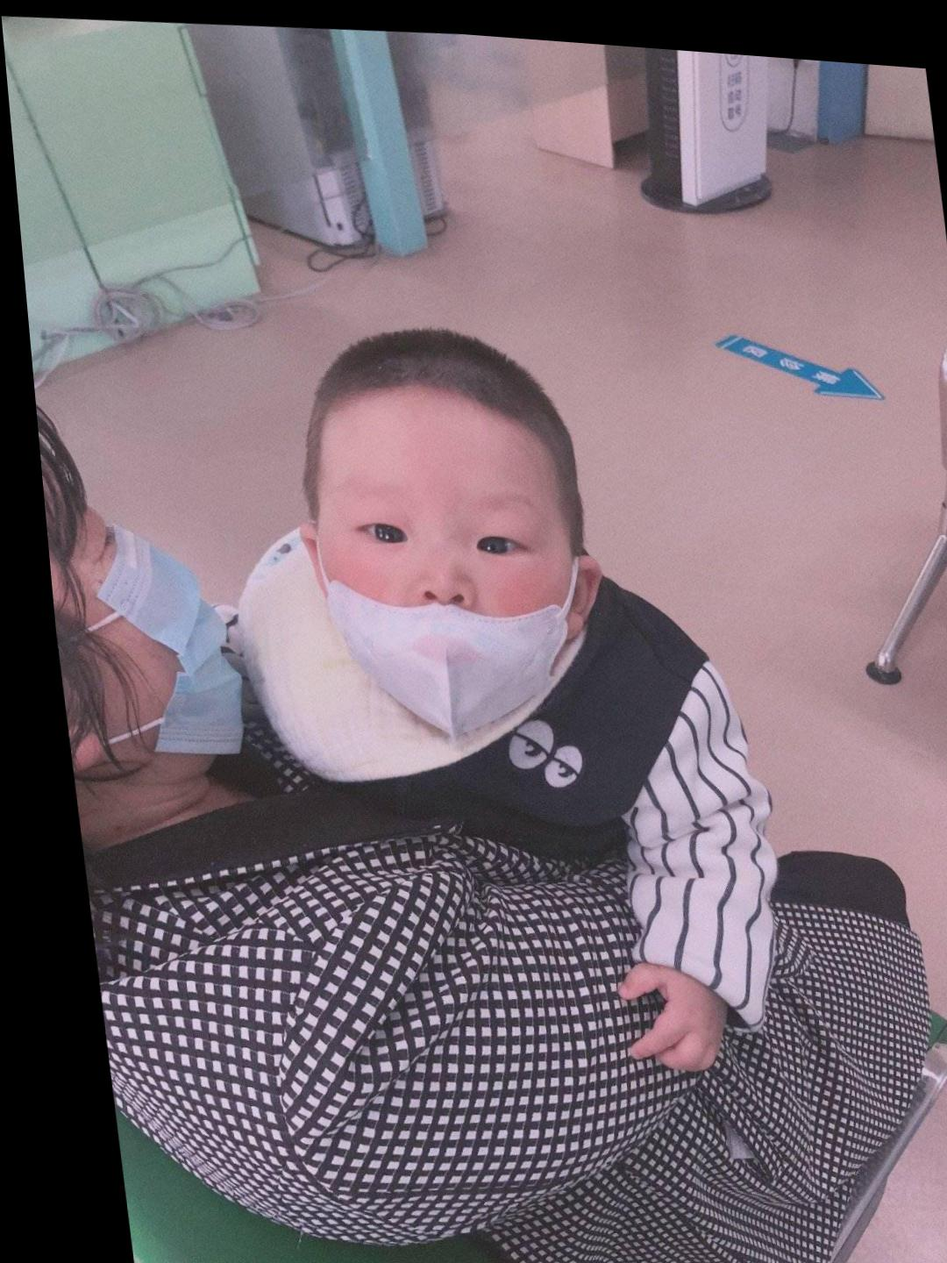OK: (45, 493, 234, 785)
WRONG: (305, 457, 580, 738)
